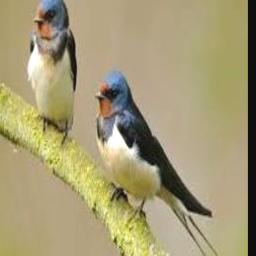Swallow: (94, 72, 234, 256), (27, 0, 78, 136)
